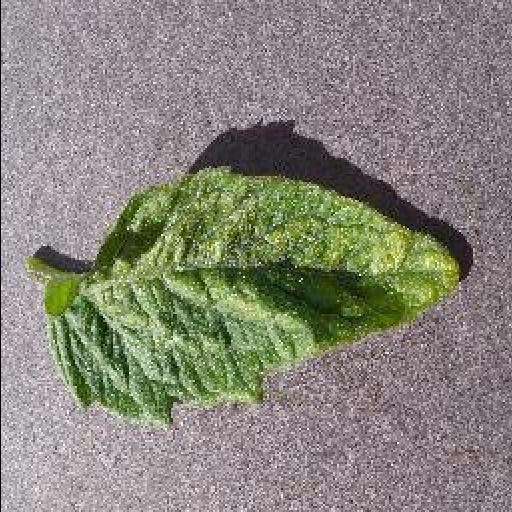disease_tomato: (46, 162, 464, 432)
